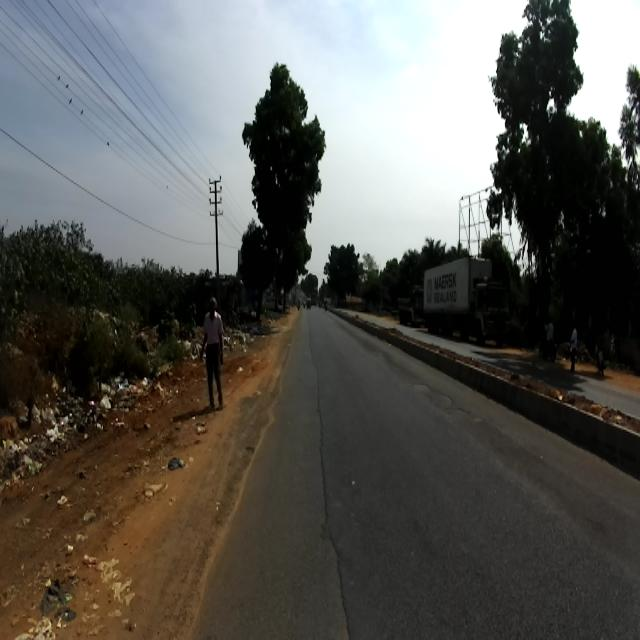person ahead at: (194, 292, 230, 423)
